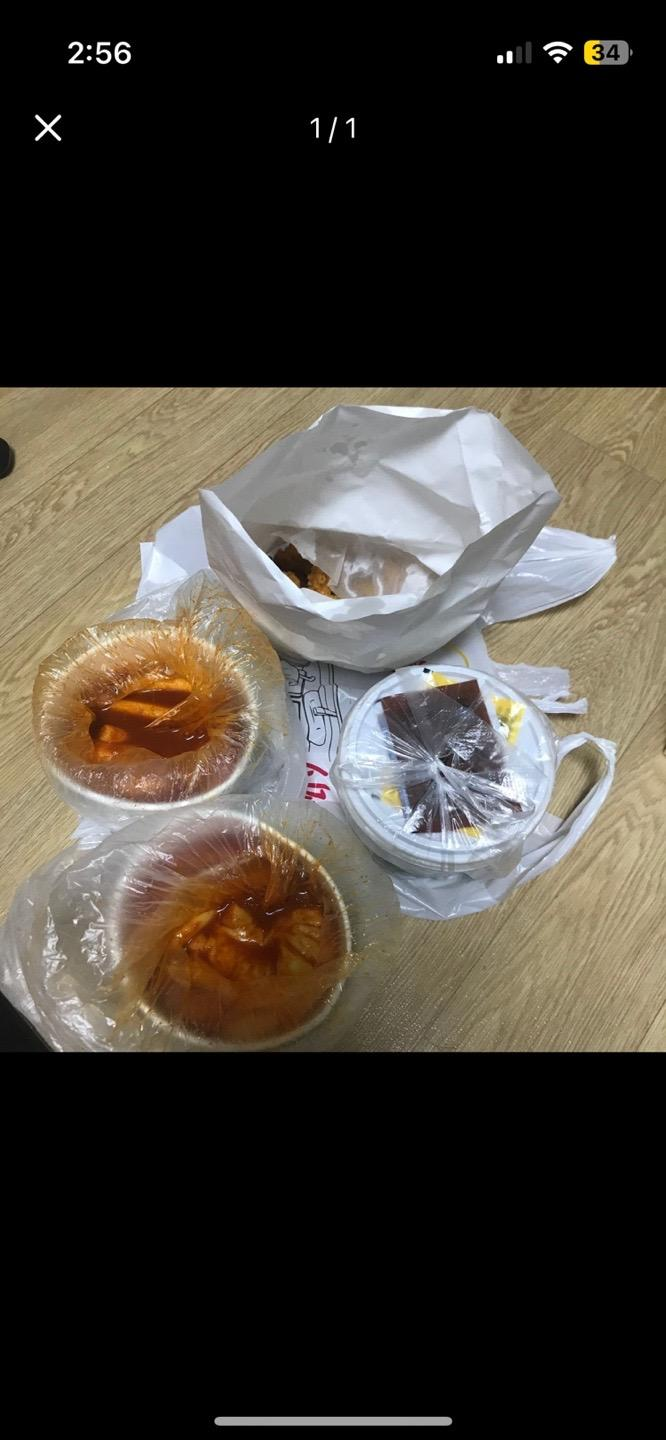Lunch Box: (0, 796, 399, 1054), (201, 405, 559, 671), (32, 572, 289, 819)
cup: (331, 663, 563, 877)
